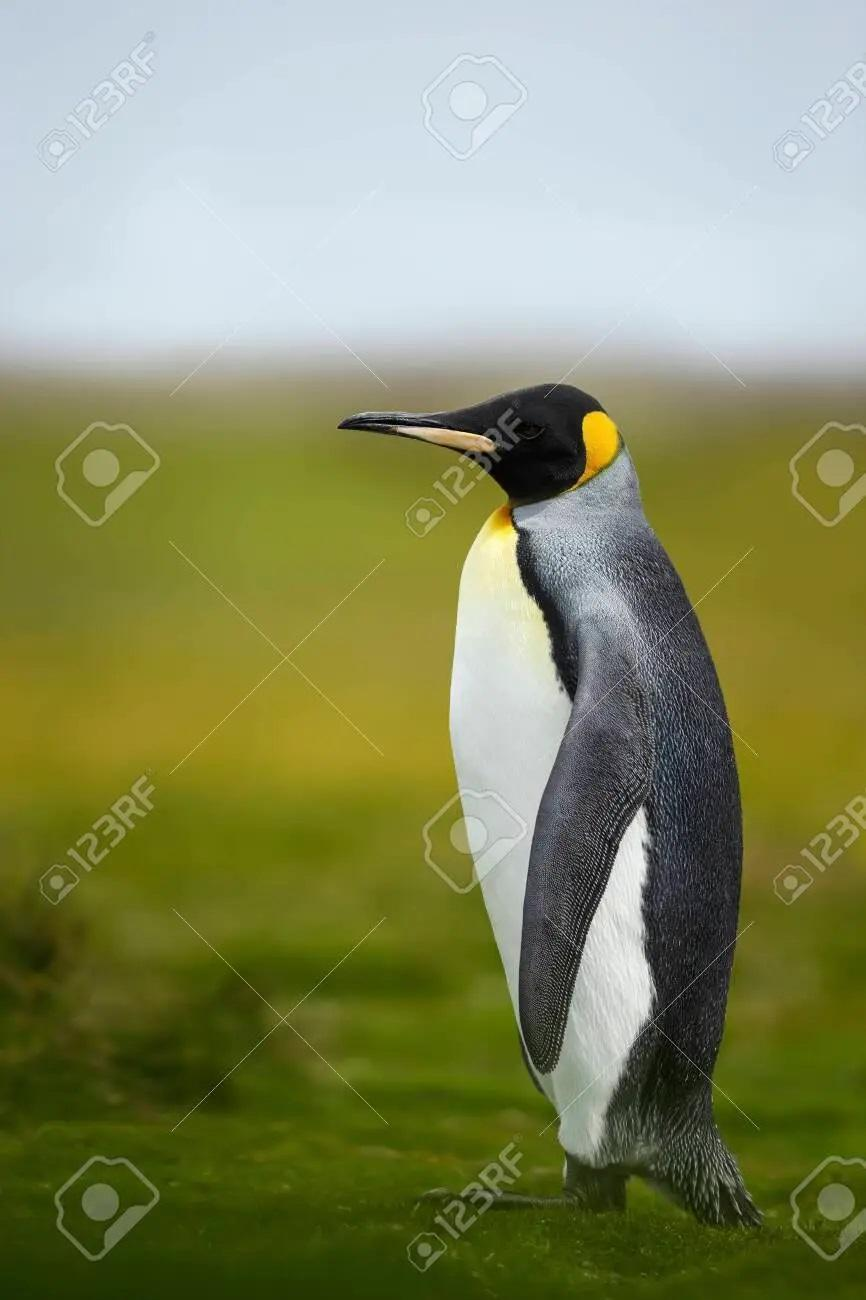king: (278, 330, 780, 1245)
